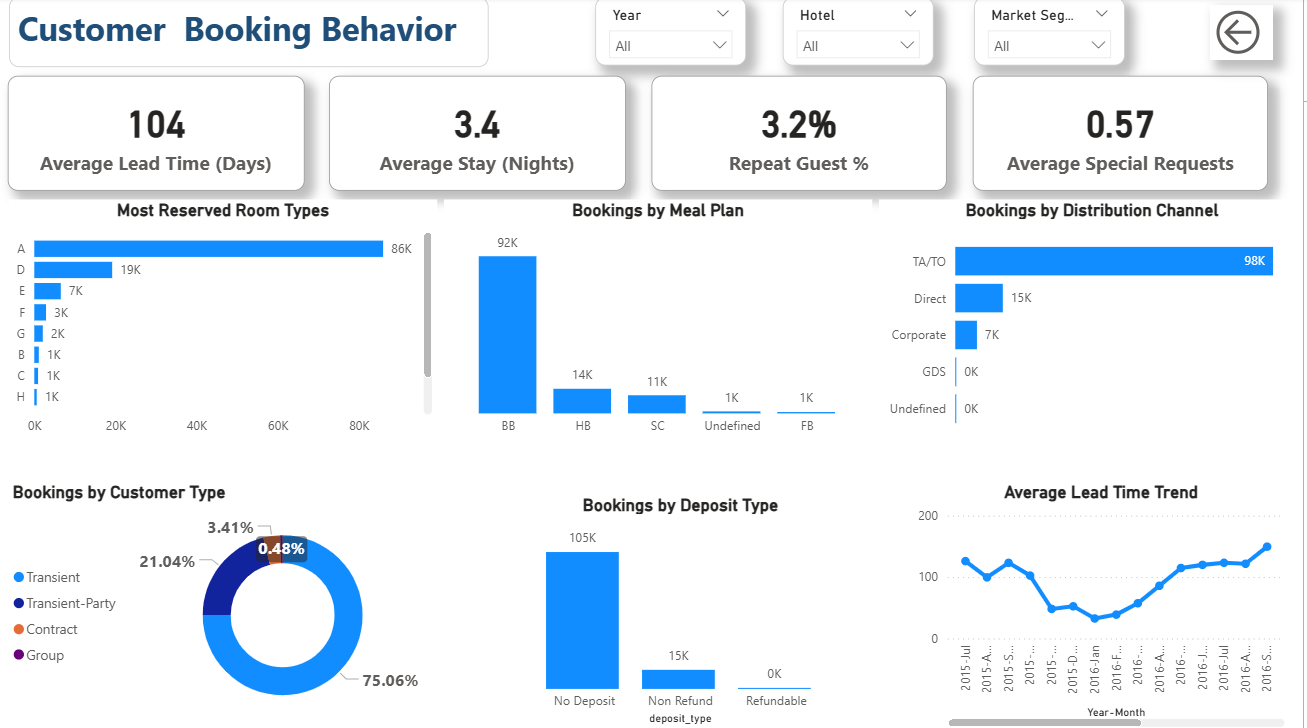

The page's visual inventory and layout, read from the dashboard file:
{"tool":"powerbi","page":{"name":"Customer & Booking Analysis","canvas":[1280,720],"ordinal":3},"visuals":[{"type":"textbox","box":[9.6,0,470.7,68.6],"z":0},{"type":"slicer","fields":{"Values":["Dim_Date.Year"]},"box":[584.6,0,148.2,67.2],"z":1000},{"type":"slicer","fields":{"Values":["Dim_Hotel.hotel"]},"box":[768.4,0,148.2,67.2],"z":2000},{"type":"slicer","fields":{"Values":["Dim_MarketSegment.market_segment"]},"box":[956.4,0,148.2,67.2],"z":3000},{"type":"card","fields":{"Values":["hotel_bookings.Average Lead Time"]},"box":[8.2,76.8,290.9,112.5],"z":4000},{"type":"card","fields":{"Values":["hotel_bookings.Average Length of Stay"]},"box":[323.8,76.8,290.9,112.5],"z":5000},{"type":"card","fields":{"Values":["hotel_bookings.Repeat Guest %"]},"box":[639.5,76.8,289.5,112.5],"z":6000},{"type":"card","fields":{"Values":["hotel_bookings.Average Special Requests"]},"box":[955.1,76.8,289.5,112.5],"z":7000},{"type":"donutChart","title":"Bookings by Customer Type","fields":{"Category":["hotel_bookings.customer_type"],"Y":["hotel_bookings.Total Bookings"]},"box":[8.9,476.2,428.8,242.5],"z":8000},{"type":"clusteredBarChart","title":"Bookings by Distribution Channel","fields":{"Category":["hotel_bookings.distribution_channel"],"Y":["hotel_bookings.Total Bookings"]},"box":[862.8,199,418,240],"z":9000},{"type":"clusteredColumnChart","title":"Bookings by Meal Plan","fields":{"Category":["Dim_Meal.meal"],"Y":["hotel_bookings.Total Bookings"]},"box":[436.4,199,420,240],"z":10000},{"type":"lineChart","title":"Average Lead Time Trend","fields":{"Category":["Dim_Date.Year-Month"],"Y":["hotel_bookings.Average Lead Time"]},"box":[896.1,476.2,369.7,245.5],"z":11000},{"type":"clusteredBarChart","title":"Most Reserved Room Types","fields":{"Category":["hotel_bookings.reserved_room_type"],"Y":["hotel_bookings.Total Bookings"]},"box":[9.6,199,420,240],"z":12000},{"type":"clusteredColumnChart","title":"Bookings by Deposit Type","fields":{"Category":["hotel_bookings.deposit_type"],"Y":["hotel_bookings.Total Bookings"]},"box":[493.9,488,349,230.7],"z":13000},{"type":"actionButton","box":[1188.1,6.8,61.3,54.5],"z":14000}]}

Visuals, with their boxes in screenshot pixels (x1, y1, x2, y2), scaled from the page's 1280x720 canvas onto the 1307x728 screenshot:
textbox: 10/0/490/69
slicer - Dim_Date.Year: 597/0/748/68
slicer - Dim_Hotel.hotel: 785/0/936/68
slicer - Dim_MarketSegment.market_segment: 977/0/1128/68
card - hotel_bookings.Average Lead Time: 8/78/305/191
card - hotel_bookings.Average Length of Stay: 331/78/628/191
card - hotel_bookings.Repeat Guest %: 653/78/949/191
card - hotel_bookings.Average Special Requests: 975/78/1271/191
"Bookings by Customer Type" donutChart: 9/481/447/727
"Bookings by Distribution Channel" clusteredBarChart: 881/201/1306/444
"Bookings by Meal Plan" clusteredColumnChart: 446/201/874/444
"Average Lead Time Trend" lineChart: 915/481/1293/727
"Most Reserved Room Types" clusteredBarChart: 10/201/439/444
"Bookings by Deposit Type" clusteredColumnChart: 504/493/861/727
actionButton: 1213/7/1276/62
